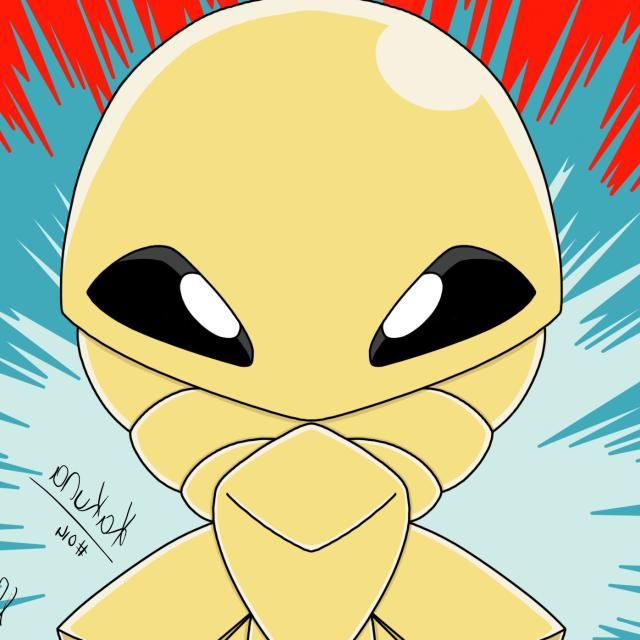Kakuna: (67, 3, 582, 640)
